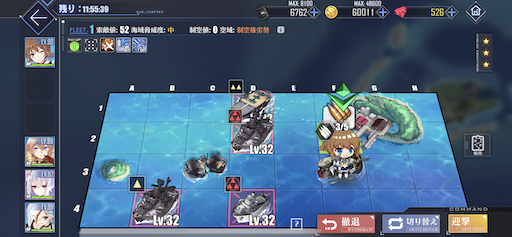lv1: (128, 176, 180, 225)
lv3: (223, 174, 275, 226), (226, 111, 274, 153)
